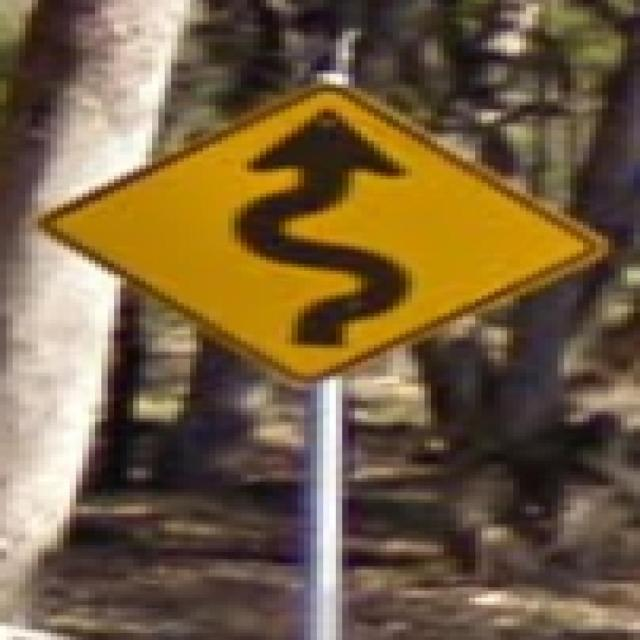Banyak Tikungan Pertama Kanan: (19, 74, 608, 387)
